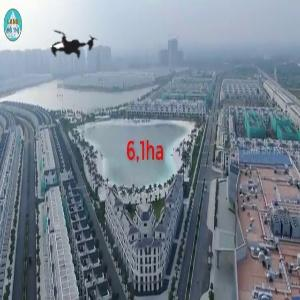drone: (38, 7, 110, 79)
